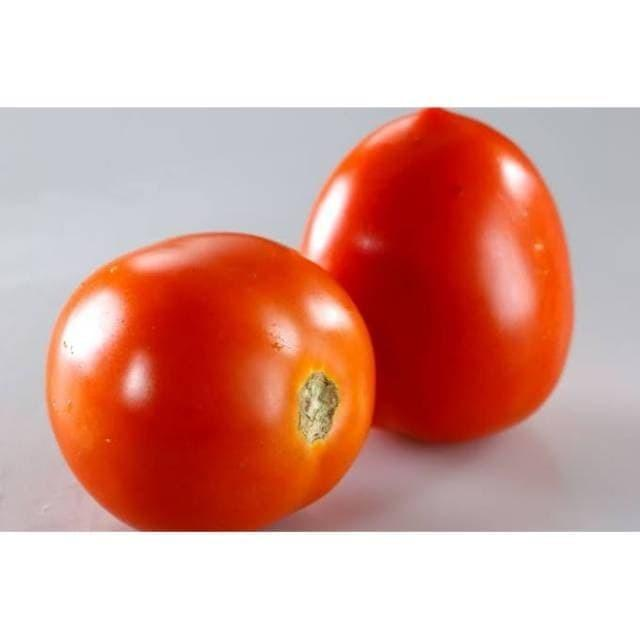sari: (40, 214, 422, 502)
